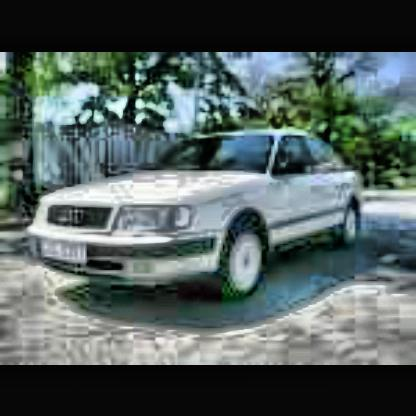Audi 100 Sedan 1994: (26, 122, 378, 307)
